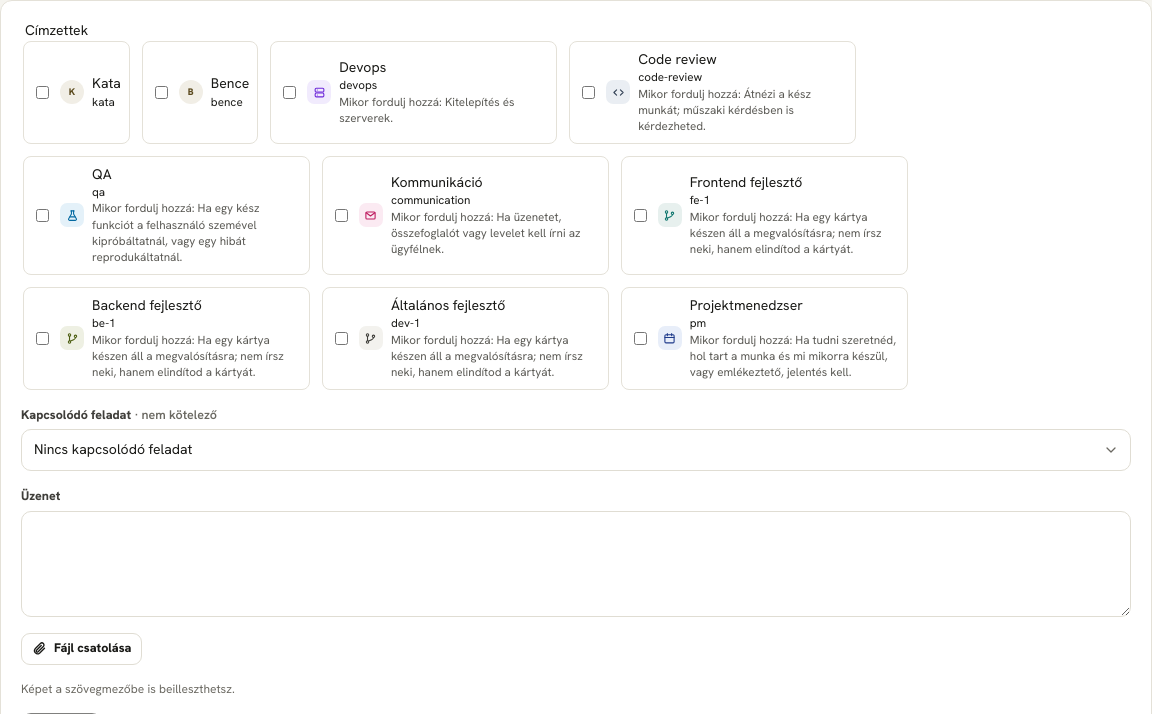
Test case: the busy-card warning in the message form (PM-663) › names who already works there and who the message would bring, and sends nothing yet
Click the checkbox labelled "be-1" at (42, 338), box [36,332,49,345]
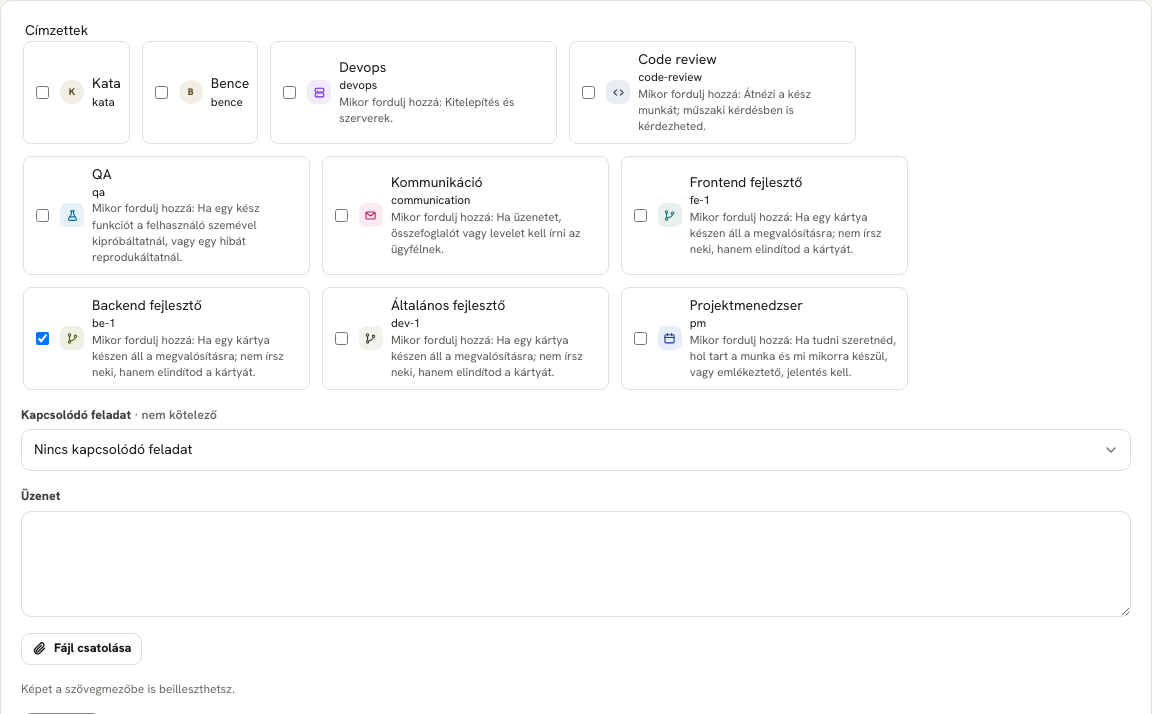
Select "AC-22 · Látogatómérés a pénztár oldalon" in the dropdown labelled "Kapcsolódó feladat · nem kötelező" at (576, 450), box [21,429,1131,471]
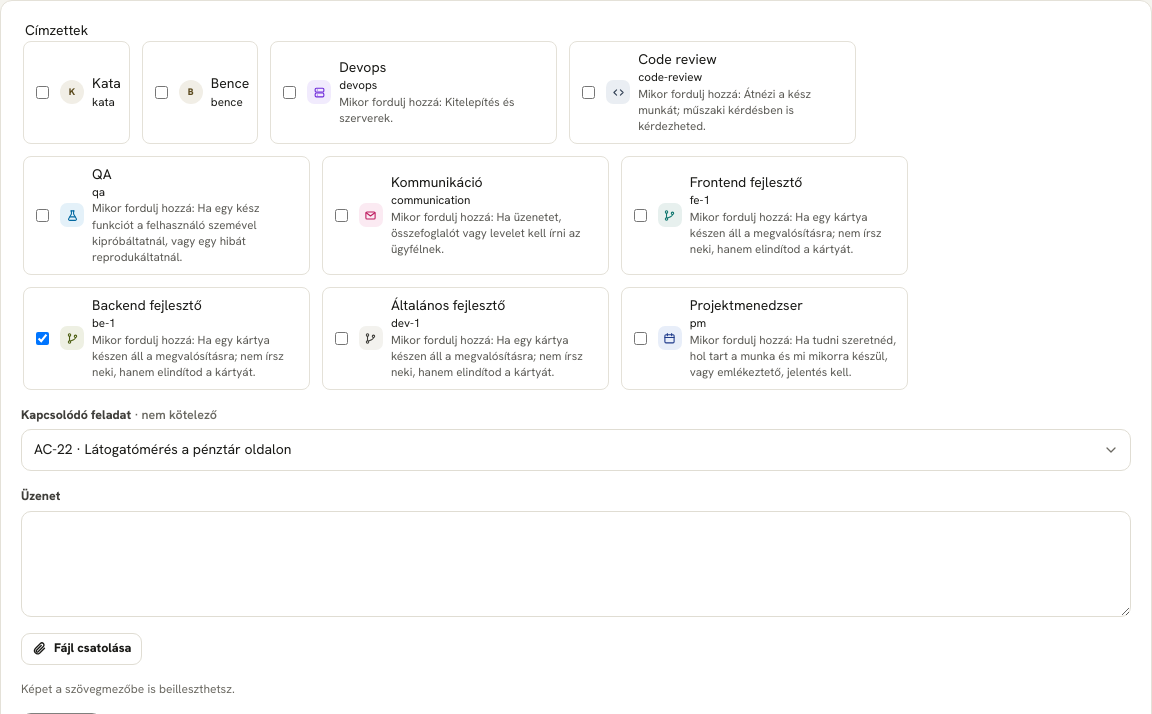
Type "Nézd meg ezt" into the text box labelled "Üzenet" at (576, 564), box [21,511,1131,617]
(page scrolled)
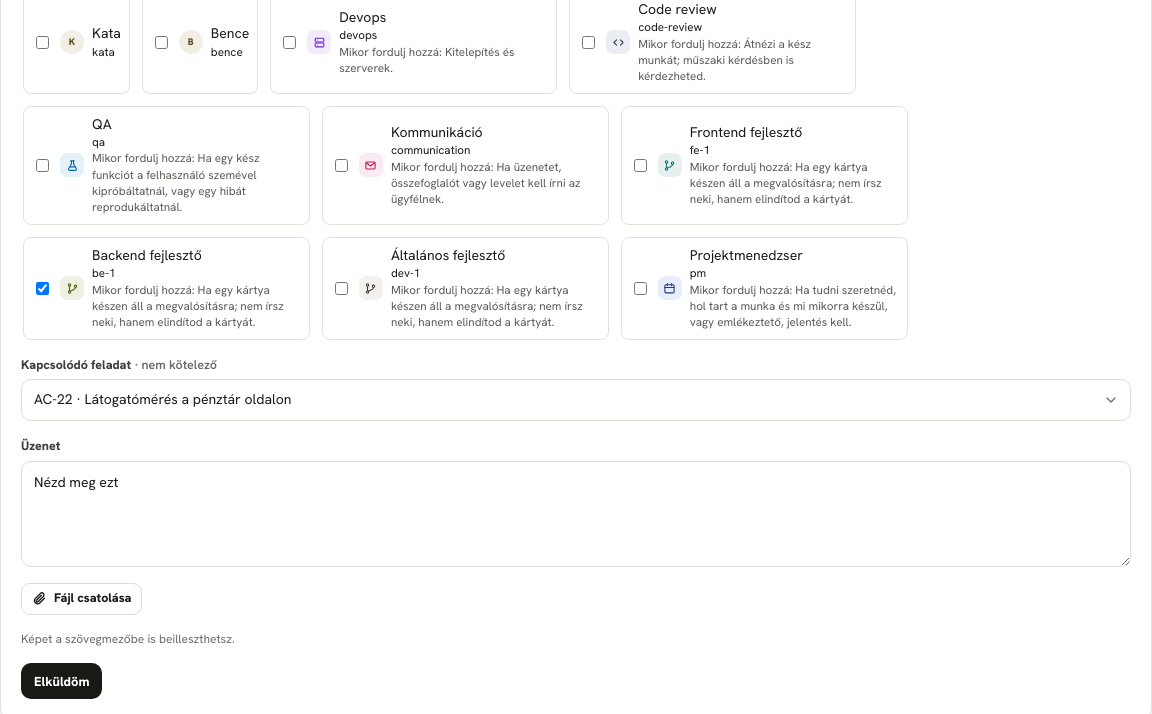
Click the button "Elküldöm" at (62, 681), box [21,663,102,699]
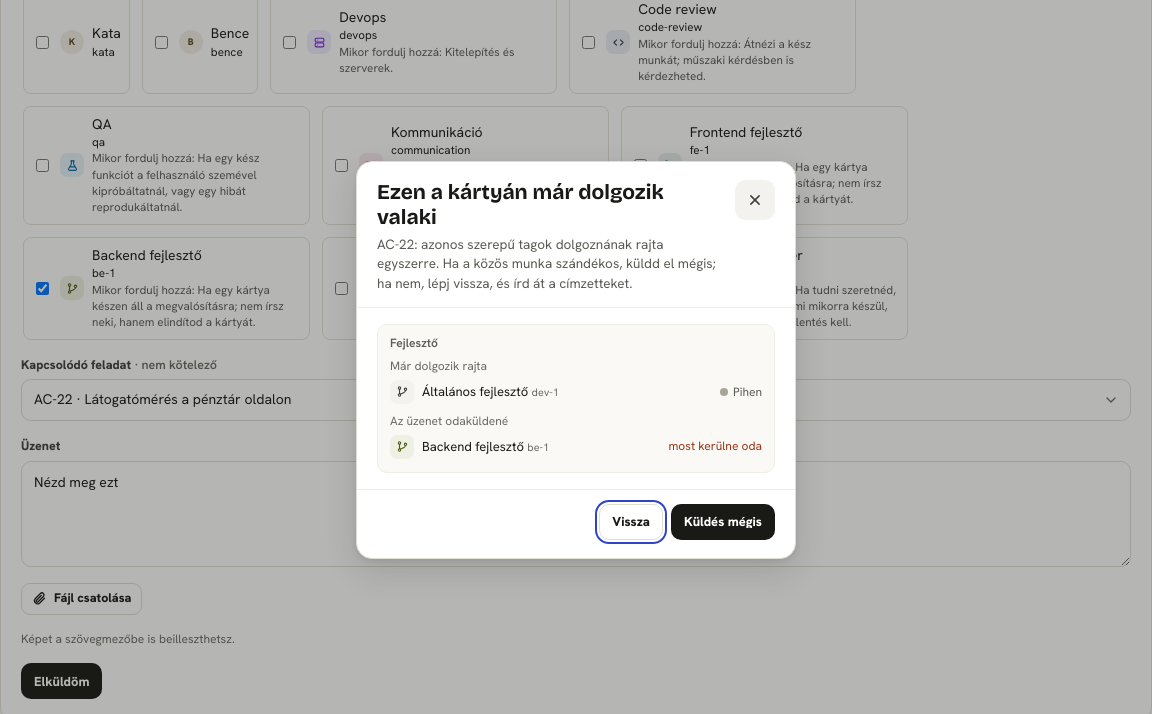
Expected: the text "Már dolgozik rajta" is shown, [390,358,487,374]
Expected: the text "Általános fejlesztő" is shown, [422,383,528,400]
Expected: the text "Pihen" is shown, [720,384,762,400]
